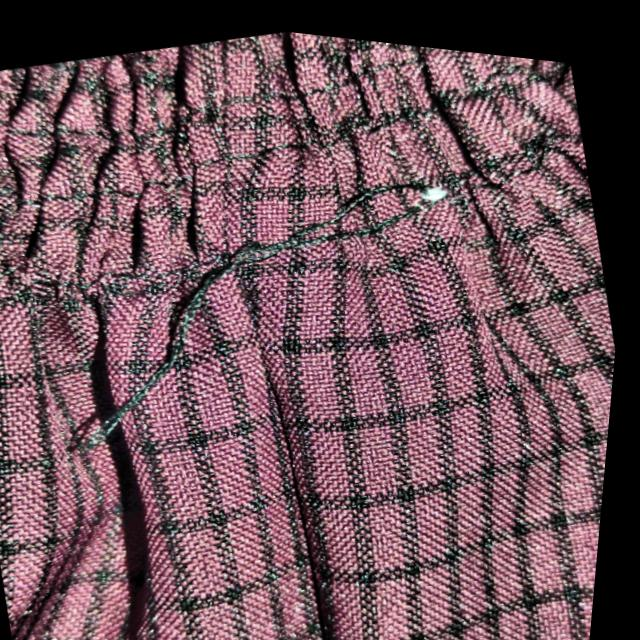Stitch: (20, 108, 507, 495)
